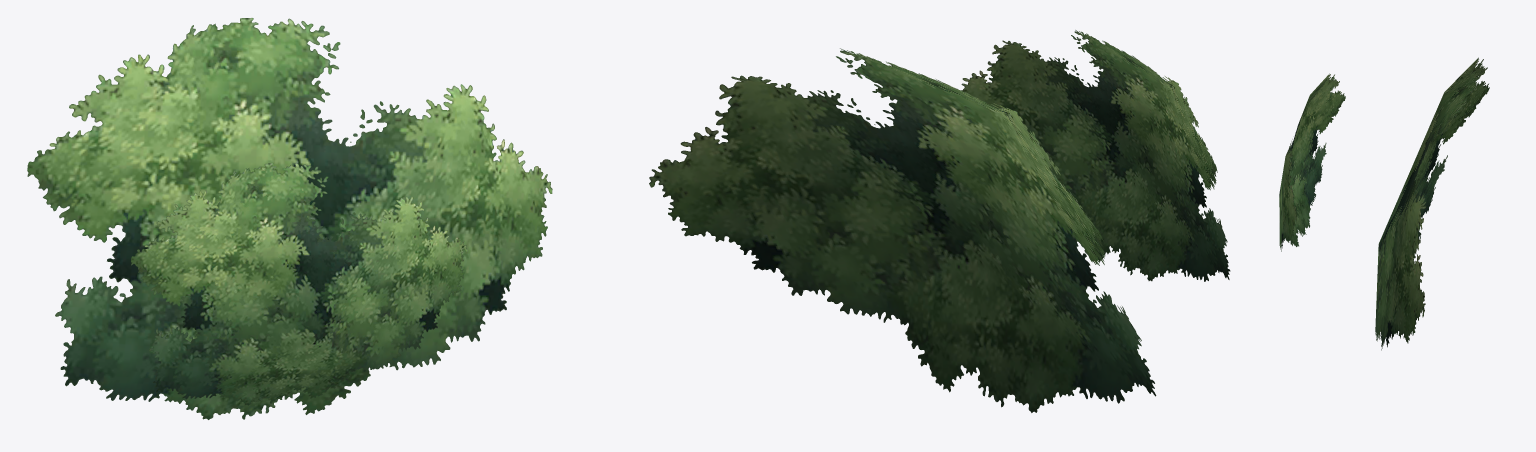
The model's file is shuye_01.FBX.
3 renders of one model, left to right at view 1: azimuth 30°, elevation 25°; view 2: azimuth 150°, elevation 25°; view 3: azimuth 270°, elevation 25°, orthographic. The views are drawn at different scales.
Visible parts, largest first — view 1: shuye_01; view 2: shuye_01; view 3: shuye_01.
Part boxes in pixels (x1,y1,x2,y2): shuye_01: (27,18,552,419); shuye_01: (649,30,1230,412); shuye_01: (1279,57,1489,350).
Size of the model in its own units: 772 by 575 by 428.
